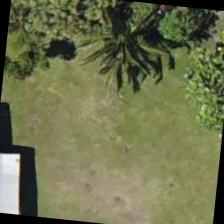Kelapa_Sawit: (73, 1, 172, 100)
